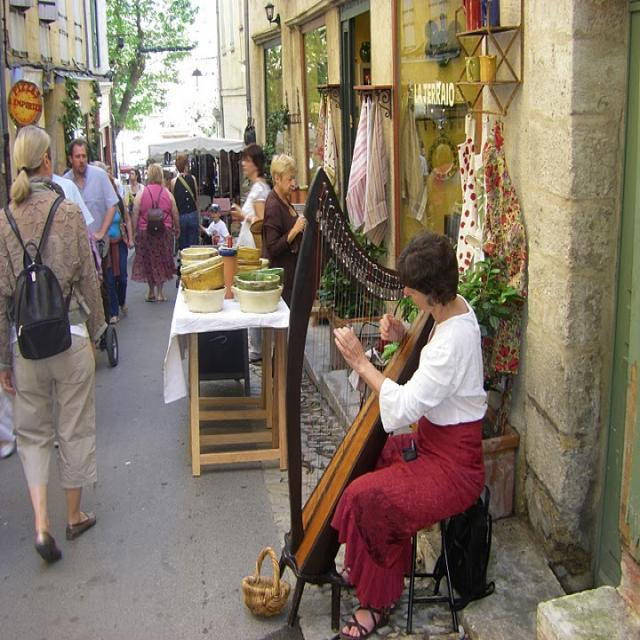harp: (278, 163, 448, 627)
